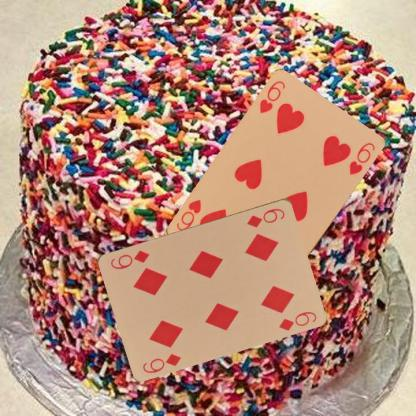6d: (140, 350, 182, 375), (244, 205, 286, 229)
6h: (257, 78, 287, 116)
